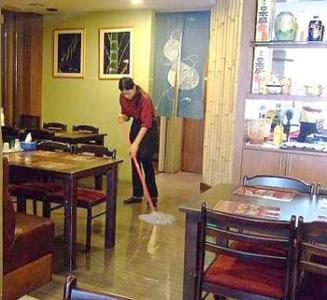person: (119, 77, 161, 212)
